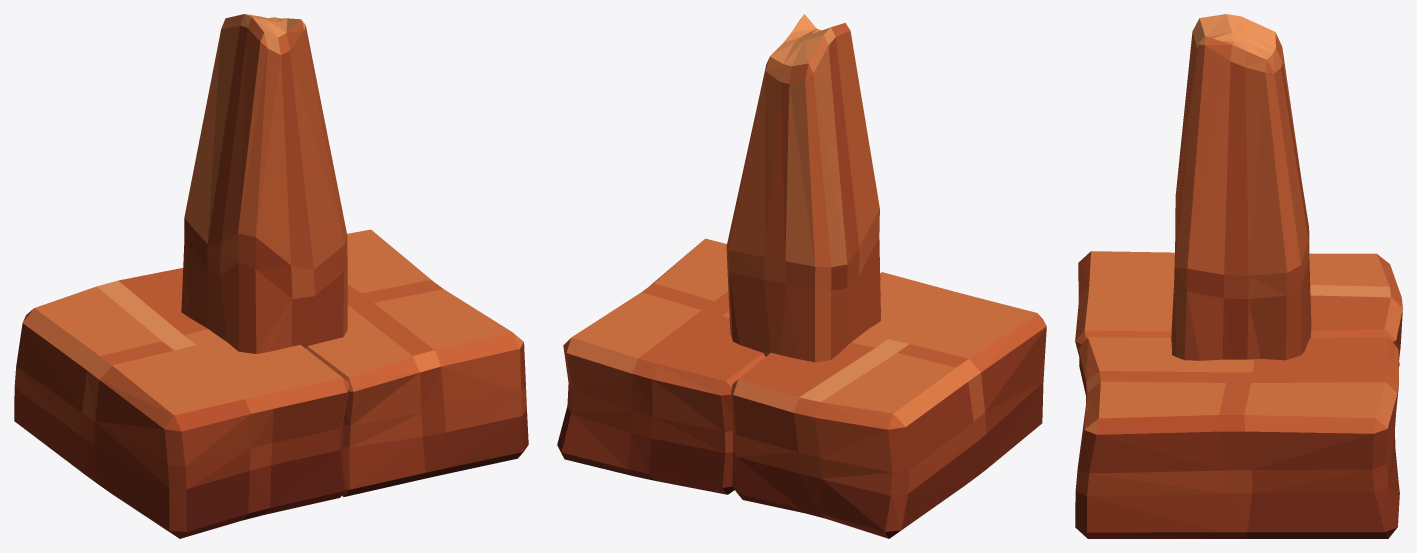
File: SM_ROCK_BLOCK_08.fbx
The picture shows the model from 3 angles, left to right: view 1: azimuth 30°, elevation 25°; view 2: azimuth 150°, elevation 25°; view 3: azimuth 270°, elevation 25°; orthographic projection. The views are drawn at different scales.
Parts seen in each view (by area): view 1: ROCK_BLOCK_08; view 2: ROCK_BLOCK_08; view 3: ROCK_BLOCK_08.
Part boxes in pixels (bbox=[...]): ROCK_BLOCK_08: bbox=[14, 14, 528, 538]; ROCK_BLOCK_08: bbox=[557, 14, 1046, 538]; ROCK_BLOCK_08: bbox=[1075, 14, 1402, 538].
Size of the model in its own units: 1.66 by 1.31 by 1.9.
